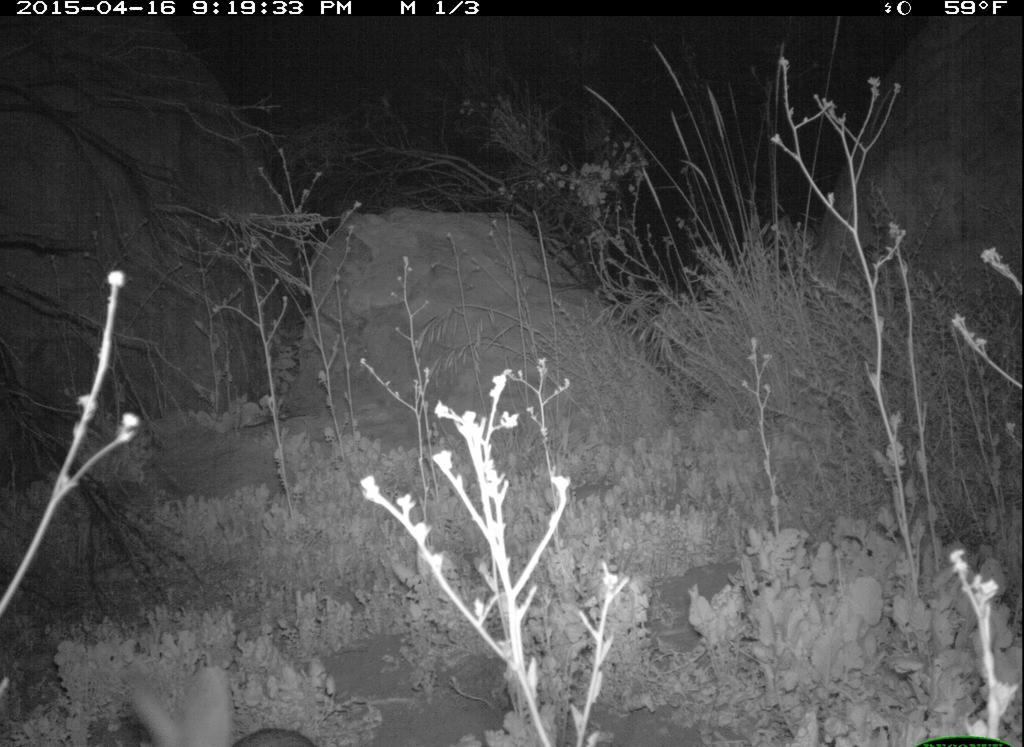rabbit: (114, 646, 296, 742)
